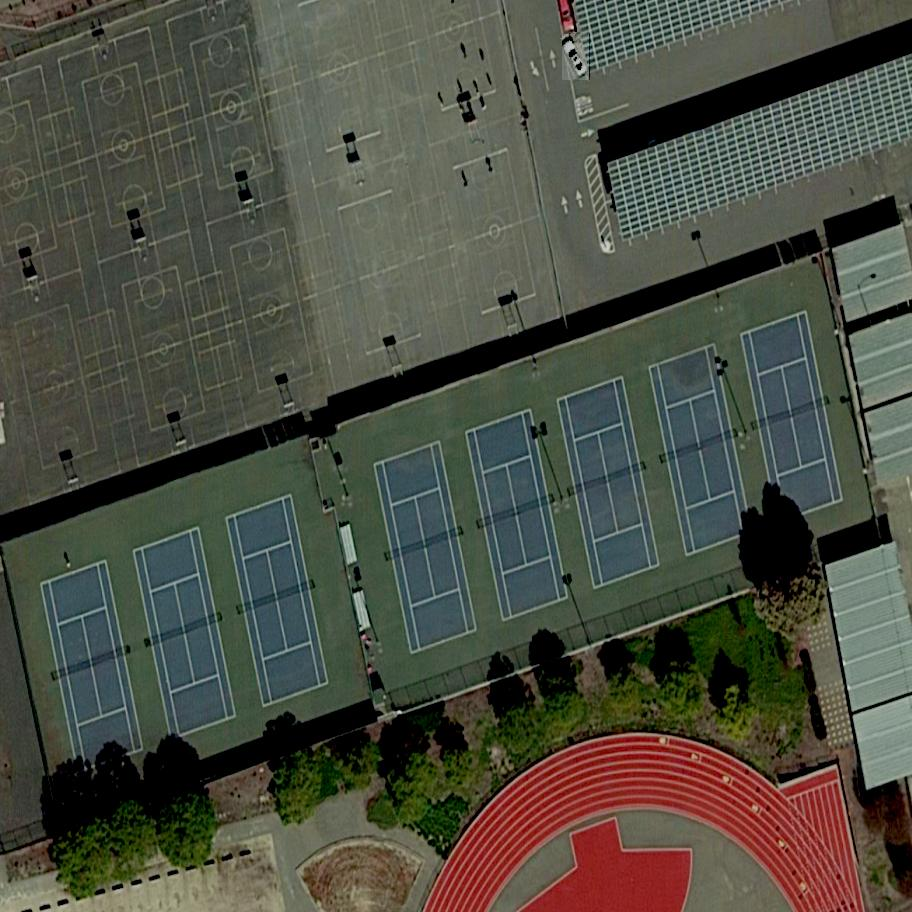small-vehicle: (561, 34, 592, 80)
